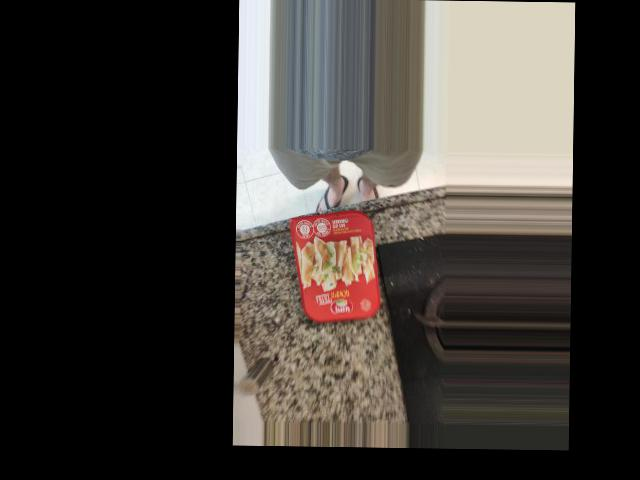cheese: (290, 209, 383, 318)
